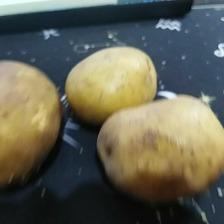Damaged potato: (95, 91, 224, 206), (0, 57, 61, 194)
Potato: (64, 44, 160, 124)
